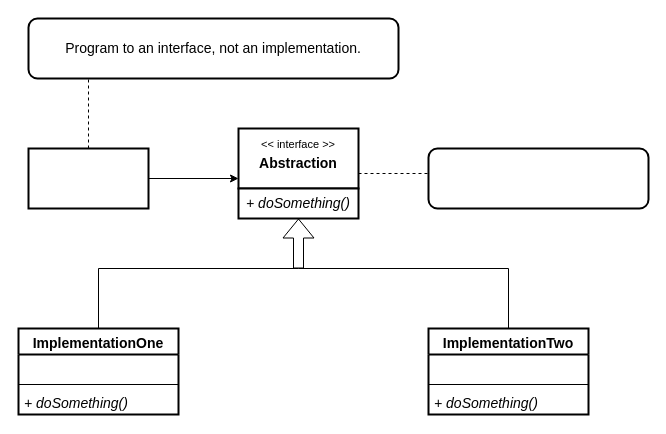
Some shapes in this 666 by 434 pixel diagram are drawn without their labels. The shapes that lost their labels are listed below. From the top down, each one's centre as x and y in pixels, then its label:
the point at 88,178: Client
the point at 538,178: Open for extention, closed for modification.
